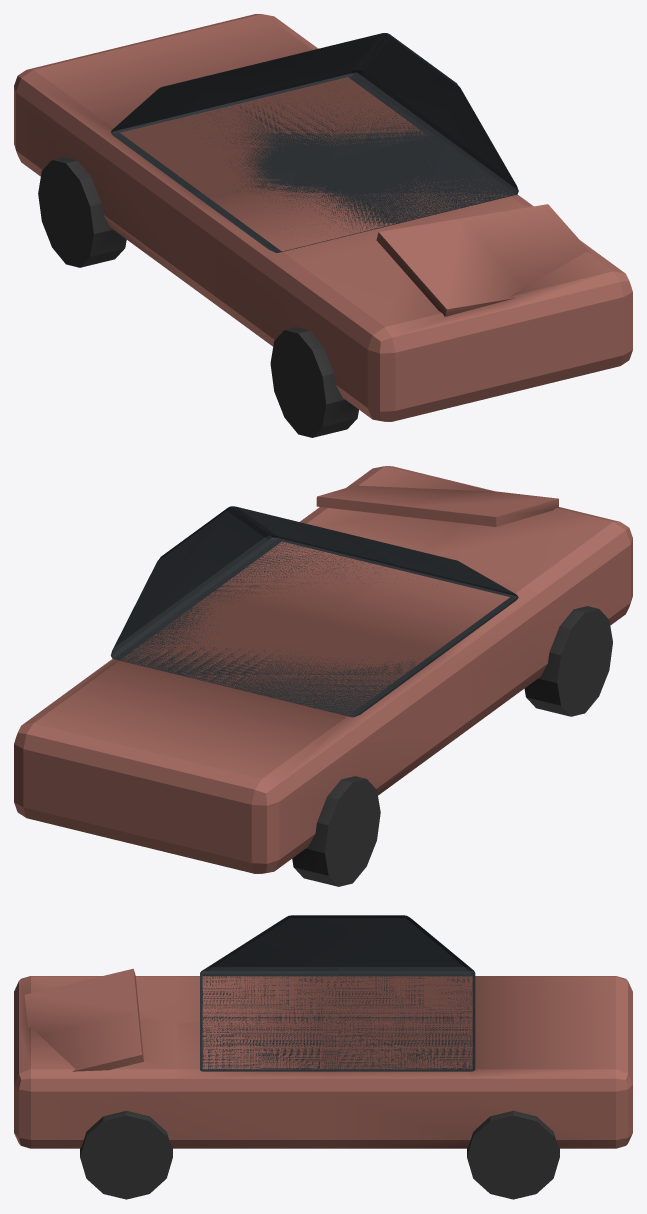
Rendered from carro_r1.glb.
3 renders of one model, top to bottom at view 1: azimuth 30°, elevation 25°; view 2: azimuth 150°, elevation 25°; view 3: azimuth 270°, elevation 25°, orthographic. The views are drawn at different scales.
Visible parts, largest first — view 1: carro_r1, capo_amassado; view 2: carro_r1, capo_amassado; view 3: carro_r1, capo_amassado.
Part boxes in pixels (x1,y1,x2,y2): carro_r1: (14, 14, 632, 437); capo_amassado: (376, 204, 591, 316); carro_r1: (14, 466, 632, 886); capo_amassado: (316, 485, 558, 526); carro_r1: (14, 915, 632, 1199); capo_amassado: (24, 968, 143, 1071).
Size of what is drawn, in the model's own units: 1.96 by 1.42 by 4.4.
